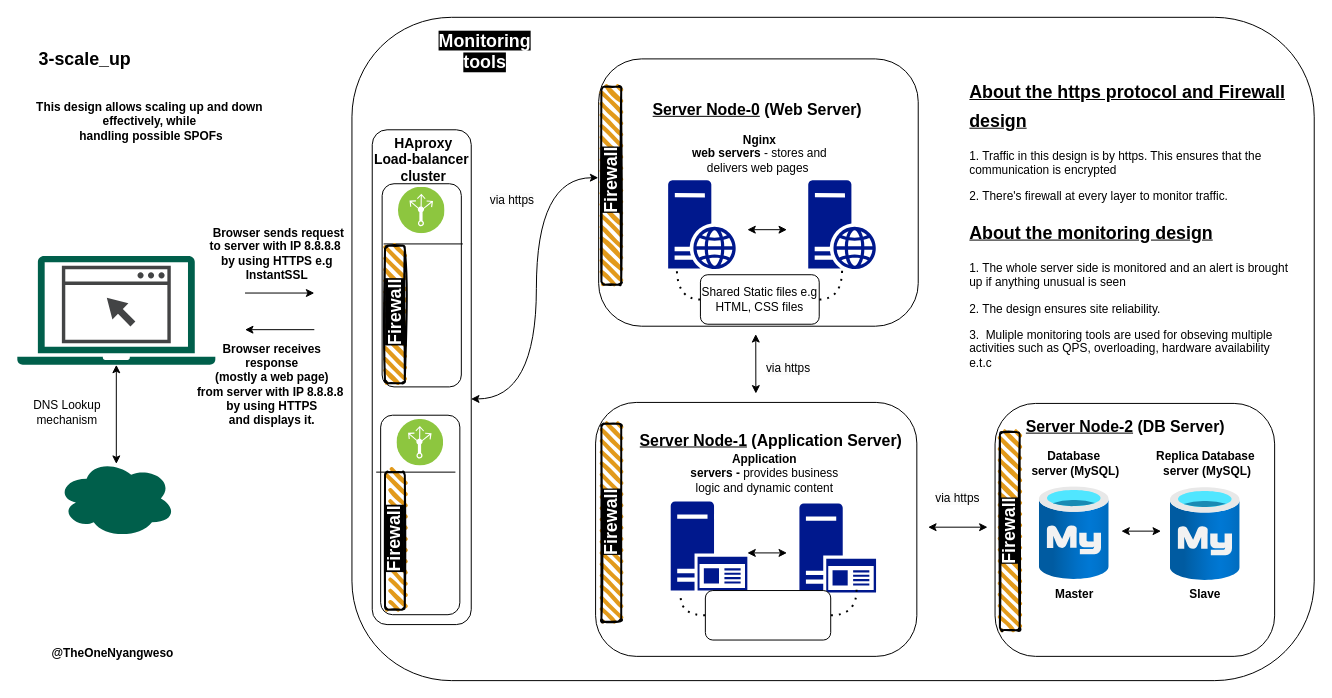
Some shapes in this 1332 by 698 pixel diagram are drawn without their labels. The centre of each missing label's shape, as x and y in pixels:
"DNS" goes at point (115, 498).
"shared code base with business logic e.t.c. e.g Python files" goes at point (767, 615).
"www.foobar.com" goes at point (115, 304).
